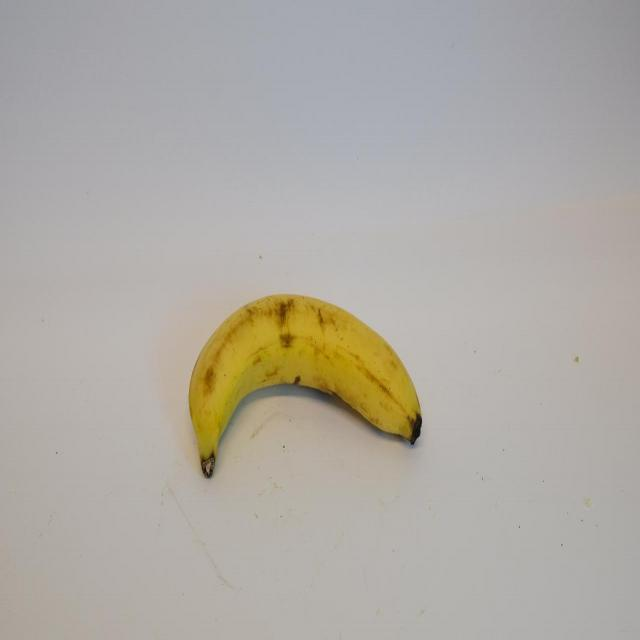banana: (182, 279, 434, 486)
